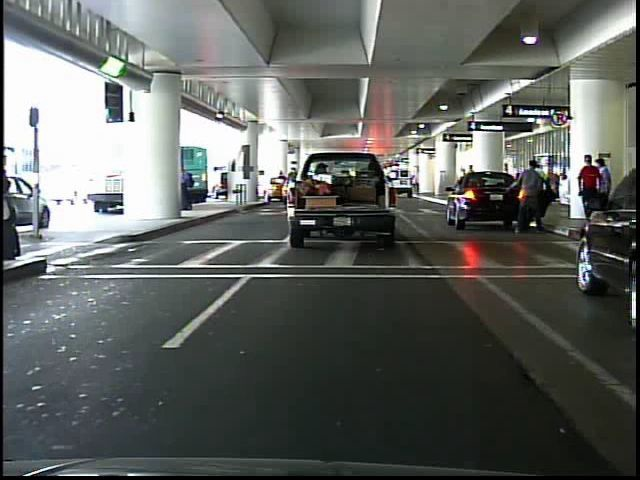person: (506, 148, 547, 239), (576, 154, 604, 231)
